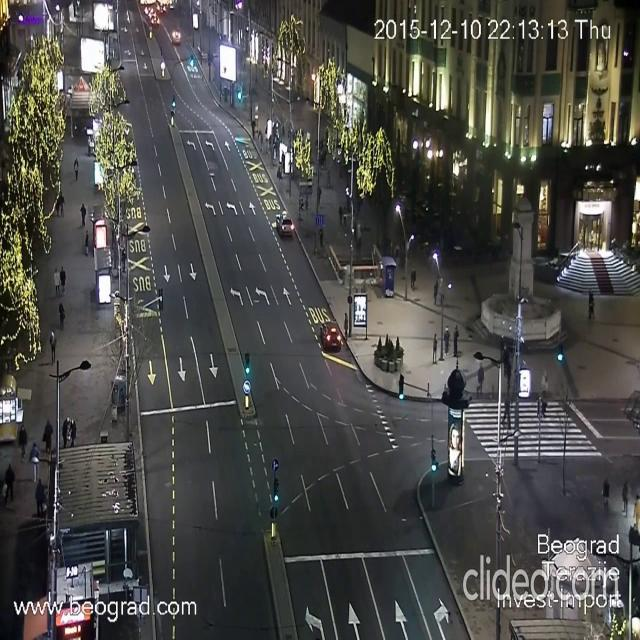car: (319, 320, 342, 352), (276, 212, 294, 238), (173, 28, 181, 49), (152, 13, 158, 26)
